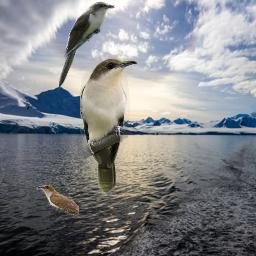Cuckoo: (80, 58, 138, 195), (56, 1, 115, 89), (36, 185, 79, 217)
